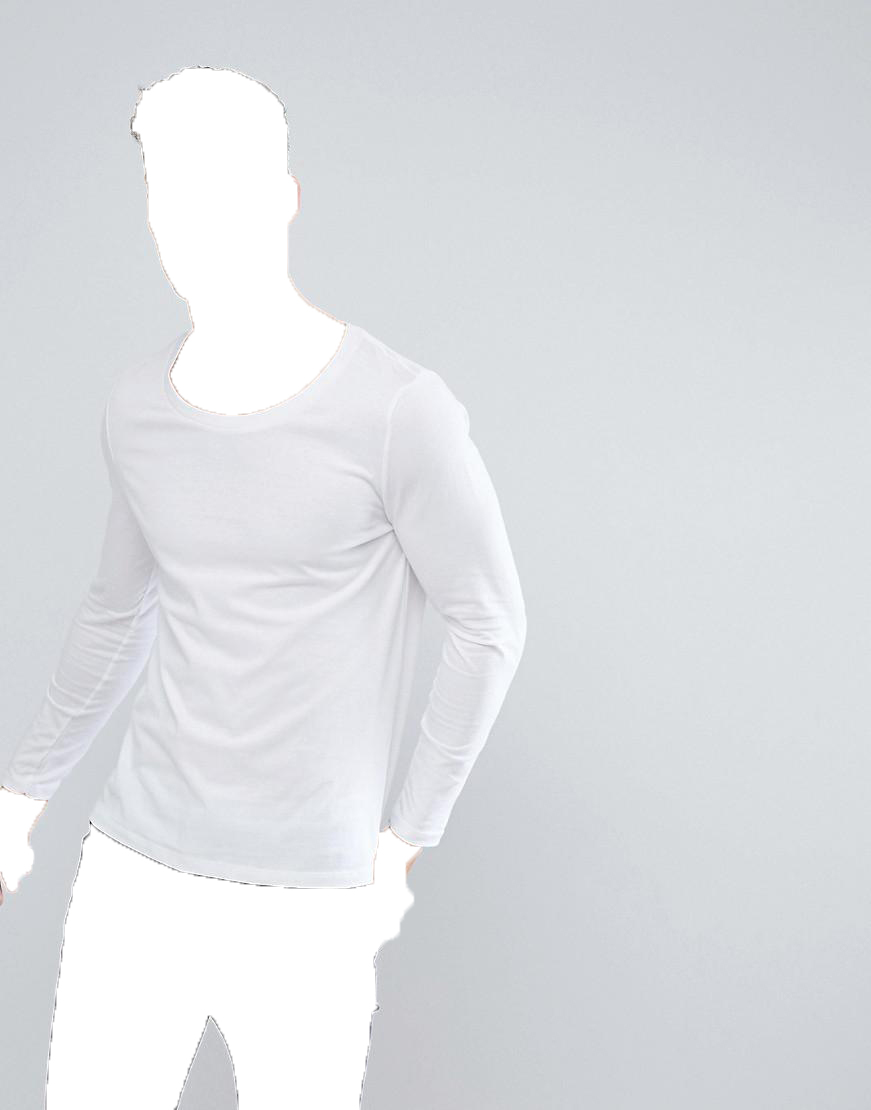teeshirt: (7, 324, 534, 900)
